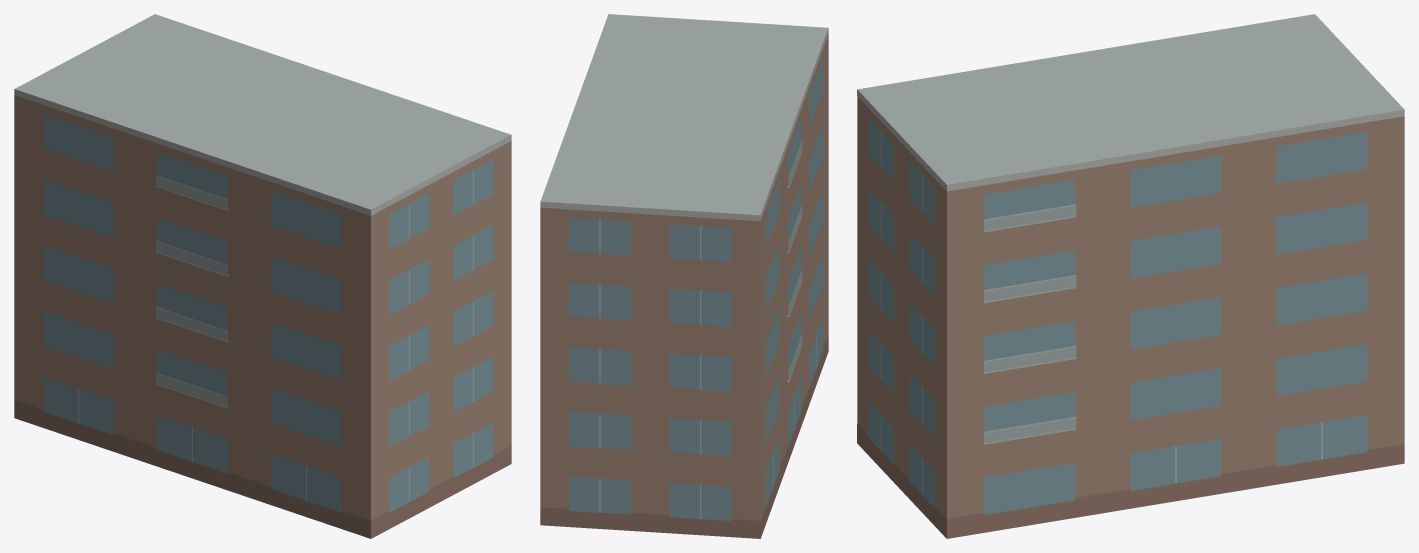
The model's file is survey-upis-32974545.glb.
3 renders of one model, left to right at view 1: azimuth 30°, elevation 25°; view 2: azimuth 150°, elevation 25°; view 3: azimuth 270°, elevation 25°, orthographic. The views are drawn at different scales.
Parts seen in each view (by area): view 1: survey-upis-32974545.tmp; view 2: survey-upis-32974545.tmp; view 3: survey-upis-32974545.tmp.
Boxes of the visible parts, x1=… form: survey-upis-32974545.tmp: x1=14, y1=14, x2=511, y2=538; survey-upis-32974545.tmp: x1=540, y1=14, x2=828, y2=538; survey-upis-32974545.tmp: x1=857, y1=14, x2=1404, y2=538.
Bounding box in the file's own units: 13.69 × 13.2 × 18.52.
